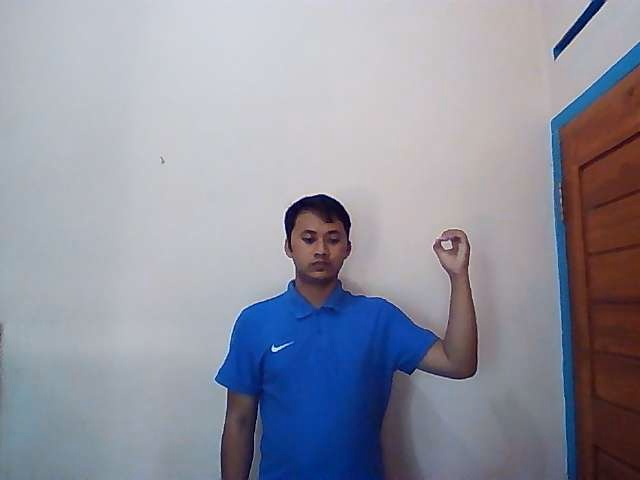O: (431, 227, 474, 278)
